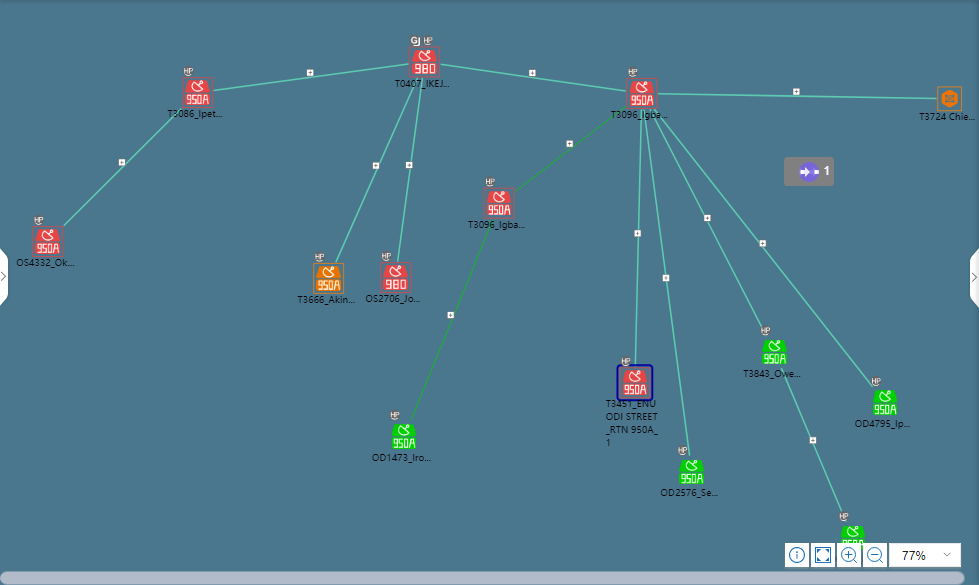Link_Blue: (661, 112, 877, 392), (652, 120, 766, 329), (639, 106, 693, 459), (333, 75, 415, 259), (64, 106, 185, 222), (780, 369, 846, 514), (395, 75, 421, 257), (211, 63, 393, 89), (454, 63, 621, 89), (633, 112, 642, 315)
Link_Green: (407, 222, 497, 419), (517, 106, 623, 188)
RTN_Green: (762, 338, 791, 367), (676, 461, 705, 490), (389, 424, 418, 453), (872, 393, 901, 415), (841, 528, 863, 545)
RTN_Orange: (315, 265, 344, 294)
RTN_Red: (181, 81, 216, 110), (486, 192, 516, 221), (382, 265, 411, 294), (34, 228, 63, 257), (413, 51, 442, 80), (621, 369, 650, 397), (627, 81, 653, 110)
